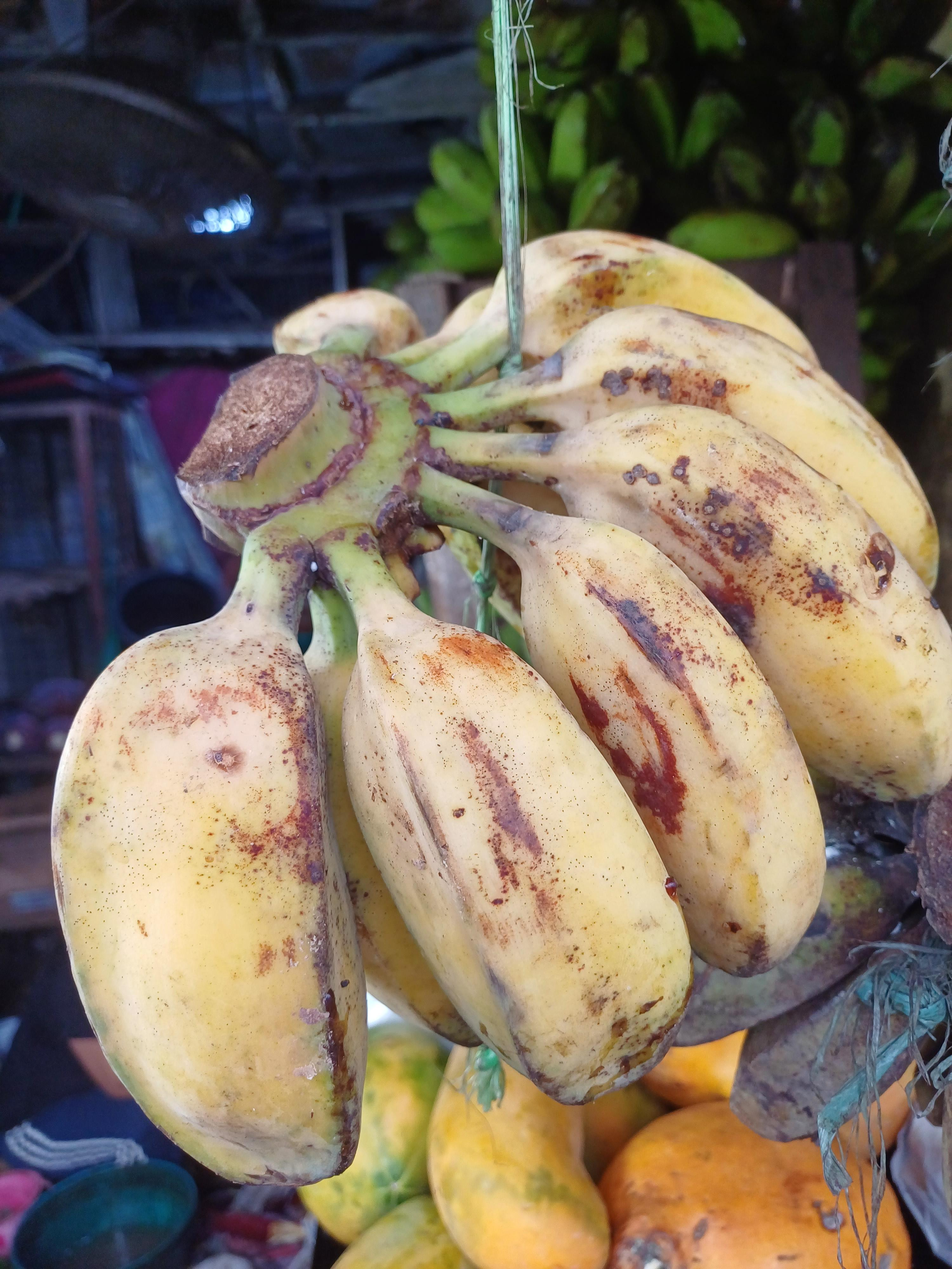ripe: (52, 234, 952, 1187)
